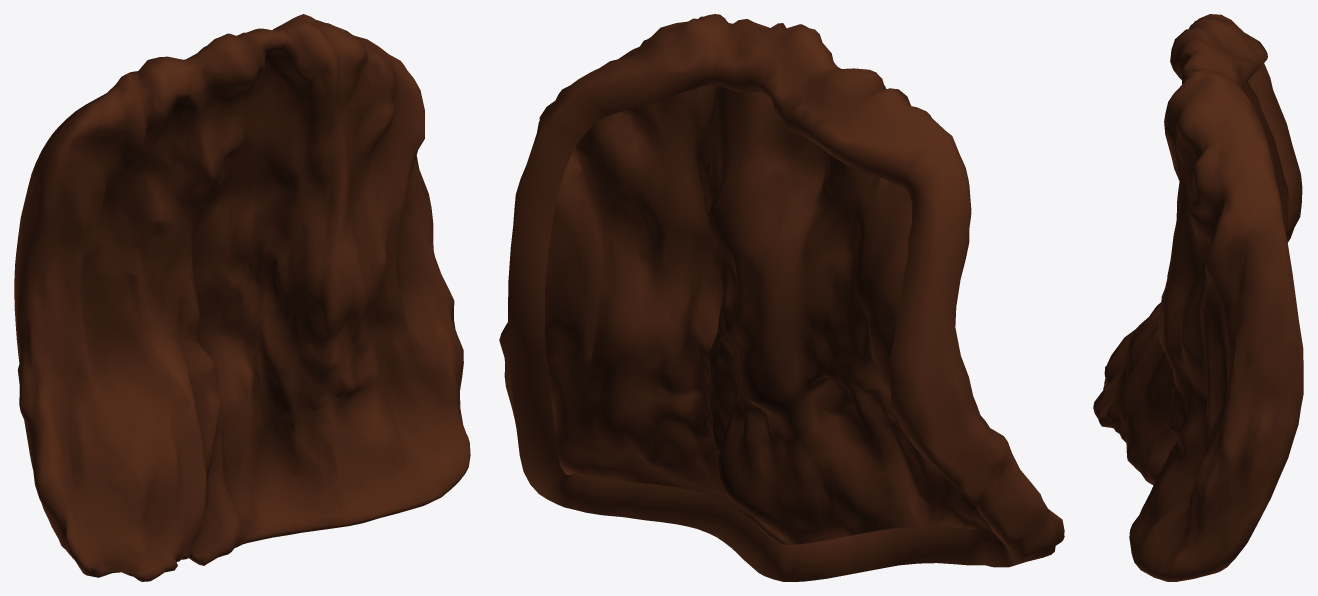
Rendered from env_digsiterock_wall03.fbx.
3 views of the same model, side by side, from view 1: azimuth 30°, elevation 25°; view 2: azimuth 150°, elevation 25°; view 3: azimuth 270°, elevation 25° (orthographic). The views are drawn at different scales.
Visible parts, largest first — view 1: env_digsiterock_wall03.001; view 2: env_digsiterock_wall03.001; view 3: env_digsiterock_wall03.001.
Boxes of the visible parts, x1,y1,x2,y2 form: env_digsiterock_wall03.001: (14,14,470,581); env_digsiterock_wall03.001: (499,14,1064,581); env_digsiterock_wall03.001: (1093,14,1303,581).
Bounding box in the file's own units: 755 × 804 × 325.
